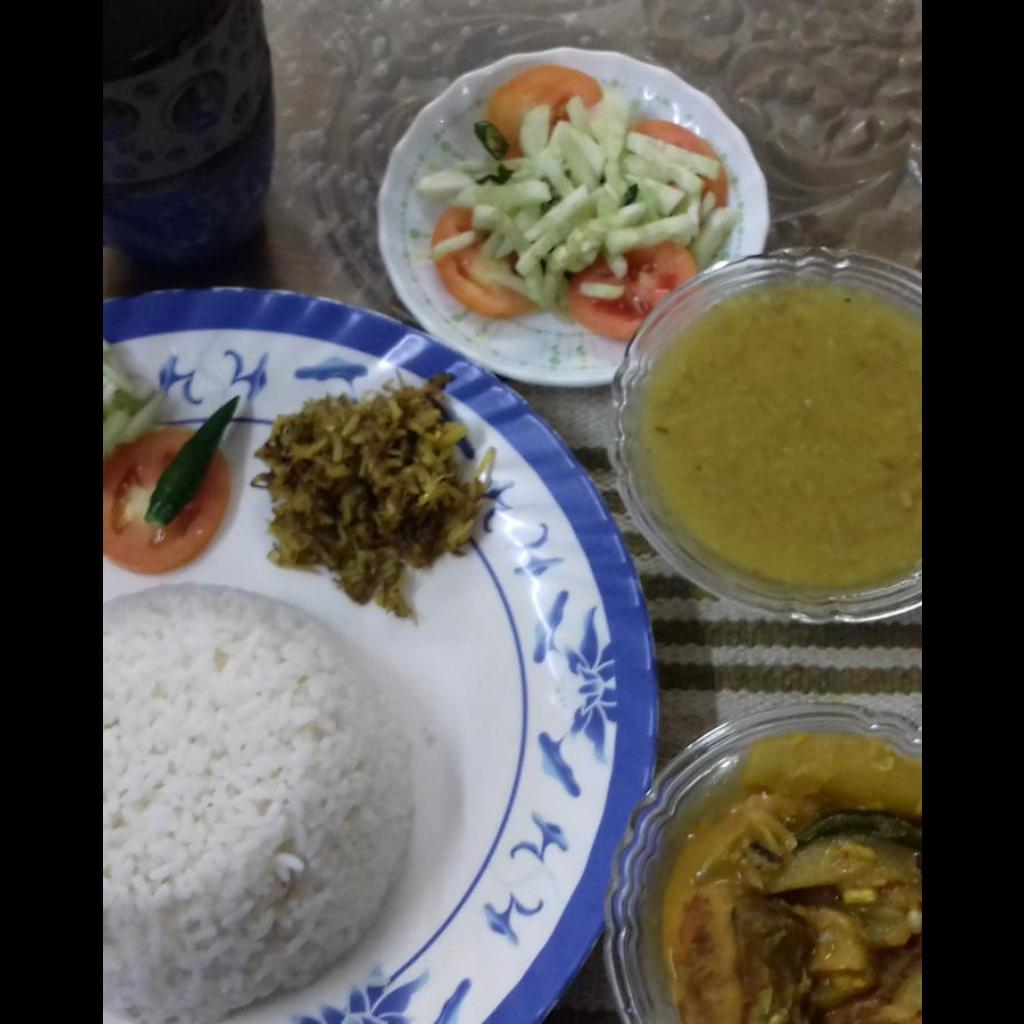chicken: (672, 800, 920, 1015)
daal: (632, 281, 920, 585)
rice: (102, 582, 416, 1022)
salad: (413, 65, 736, 338)
vaji: (251, 365, 496, 628)
